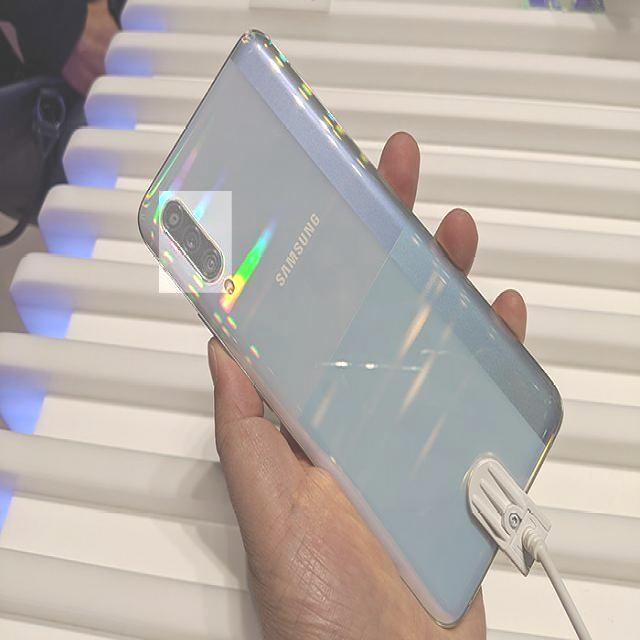lens: (158, 199, 237, 291)
phone: (136, 26, 566, 633)
